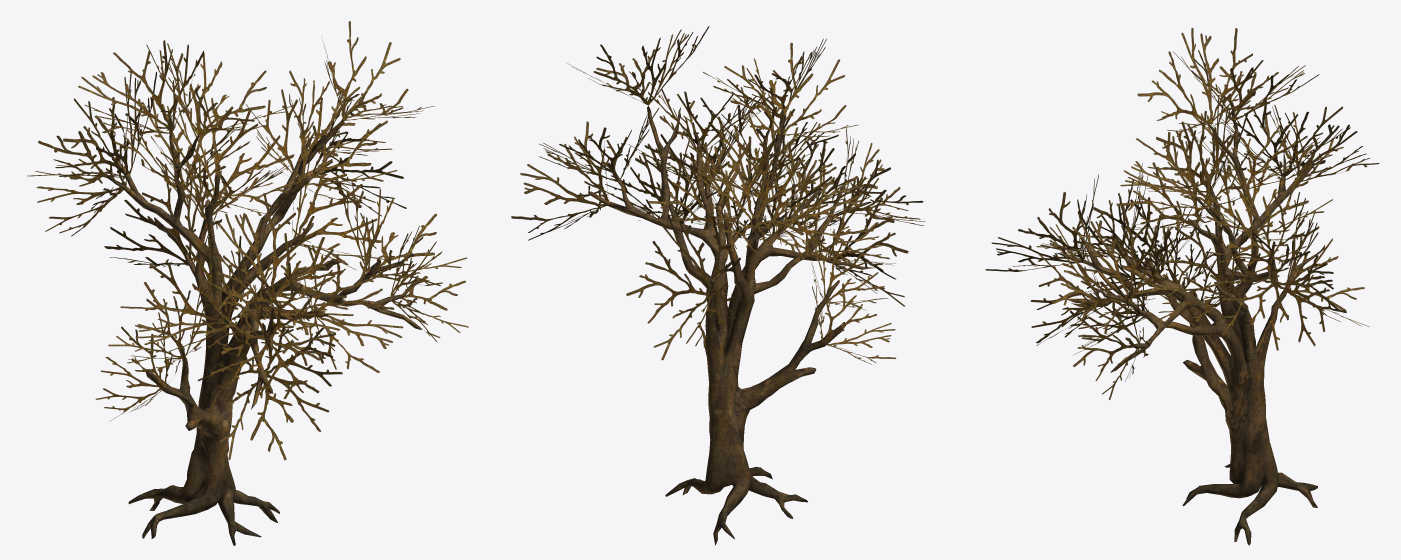
3 views of the same model, side by side, from view 1: azimuth 30°, elevation 25°; view 2: azimuth 150°, elevation 25°; view 3: azimuth 270°, elevation 25° (orthographic). The views are drawn at different scales.
Parts seen in each view (by area): view 1: branches, tree3; view 2: branches, tree3; view 3: branches, tree3.
Boxes of the visible parts, left/top/right/bottom form: branches: left=27, top=21, right=468, bottom=460; tree3: left=106, top=118, right=422, bottom=545; branches: left=511, top=26, right=925, bottom=364; tree3: left=588, top=106, right=874, bottom=545; branches: left=985, top=28, right=1379, bottom=399; tree3: left=1056, top=102, right=1324, bottom=545.
Size of the model in its own units: 16.45 by 22.58 by 17.86.
Materials: 2 (2 with a texture image).
